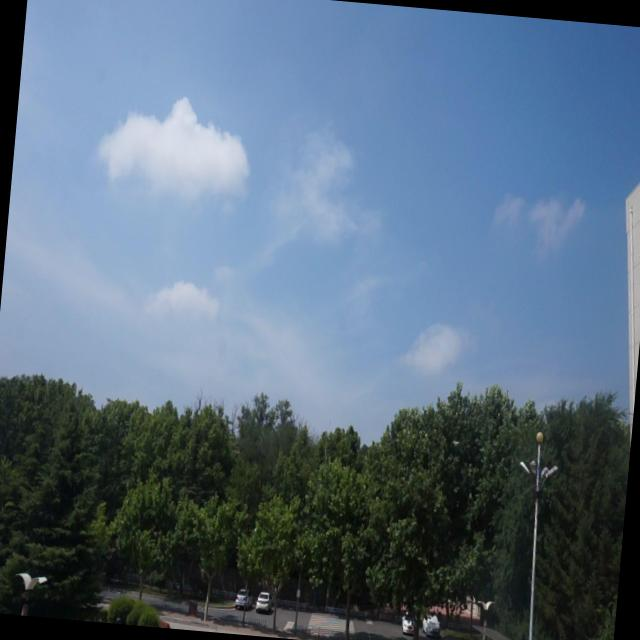drone: (449, 435, 462, 452)
